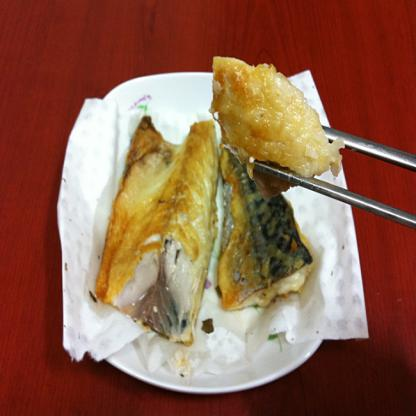Peixe: (86, 115, 234, 336), (204, 150, 328, 296), (216, 54, 334, 190)
